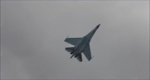maybay_muctieu: (64, 22, 101, 63)
